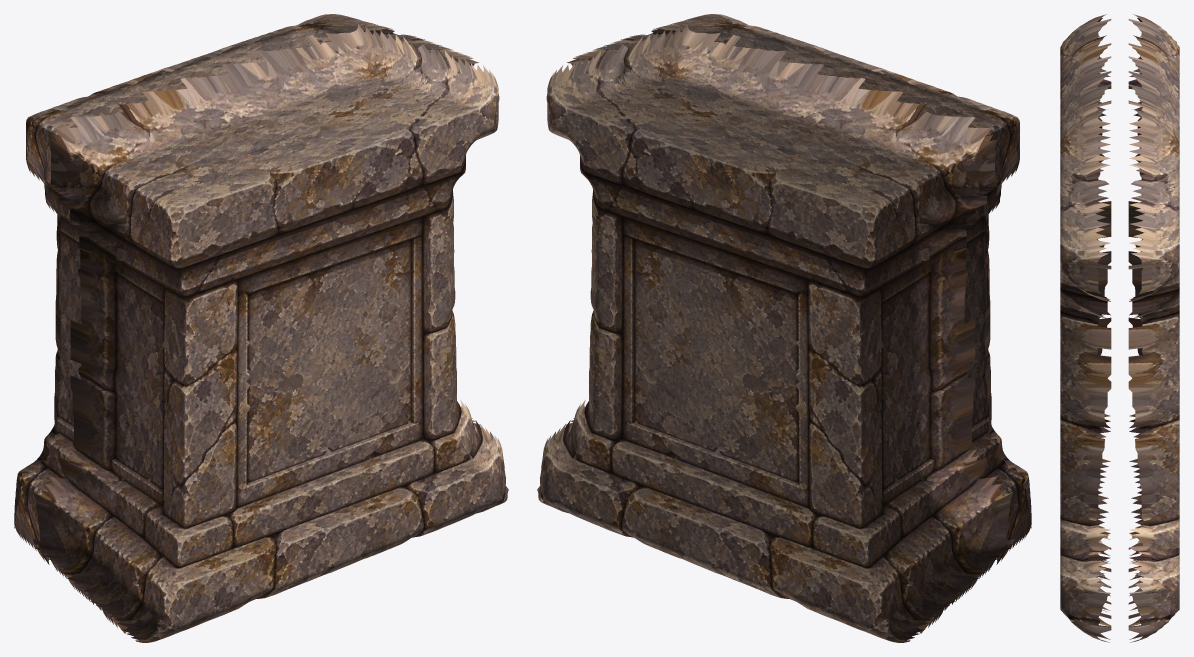
File: v4-crypt-door-scatter-empty-pedestal.glb
3 renders of one model, left to right at view 1: azimuth 30°, elevation 25°; view 2: azimuth 150°, elevation 25°; view 3: azimuth 270°, elevation 25°, orthographic. The views are drawn at different scales.
Parts seen in each view (by area): view 1: v4-crypt-door-scatter-empty-pedestal; view 2: v4-crypt-door-scatter-empty-pedestal; view 3: v4-crypt-door-scatter-empty-pedestal.
Boxes of the visible parts, x1=… form: v4-crypt-door-scatter-empty-pedestal: x1=14, y1=14, x2=508, y2=642; v4-crypt-door-scatter-empty-pedestal: x1=537, y1=14, x2=1031, y2=642; v4-crypt-door-scatter-empty-pedestal: x1=1060, y1=14, x2=1179, y2=642.
Bounding box in the file's own units: 0.9098 × 1.04 × 0.2201.
Materials: 1 (1 with a texture image).
